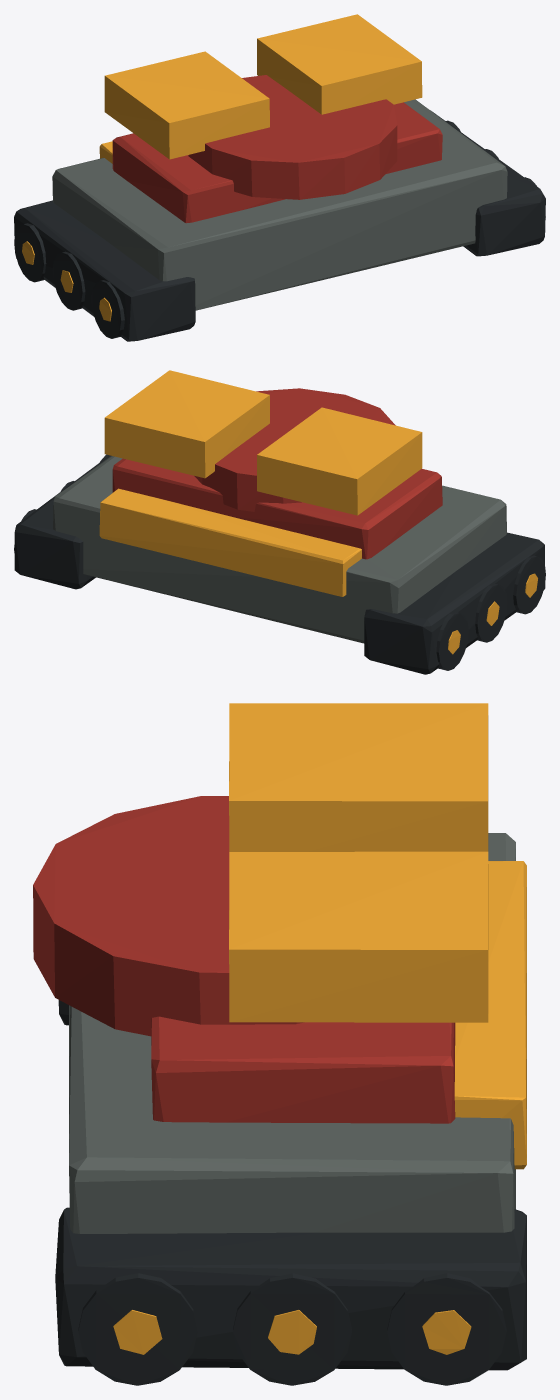
File: SM_Soviet_SU_ZarevoMLRS_LOD2.fbx
3 renders of one model, top to bottom at view 1: azimuth 30°, elevation 25°; view 2: azimuth 150°, elevation 25°; view 3: azimuth 270°, elevation 25°, orthographic. The views are drawn at different scales.
Visible parts, largest first — view 1: LOD02_SM_Soviet_SU_ZarevoMLRS; view 2: LOD02_SM_Soviet_SU_ZarevoMLRS; view 3: LOD02_SM_Soviet_SU_ZarevoMLRS.
Boxes of the visible parts, x1,y1,x2,y2 form: LOD02_SM_Soviet_SU_ZarevoMLRS: [14, 14, 545, 341]; LOD02_SM_Soviet_SU_ZarevoMLRS: [14, 370, 545, 674]; LOD02_SM_Soviet_SU_ZarevoMLRS: [33, 703, 526, 1385].
Size of the model in its own units: 572 by 286 by 225.
